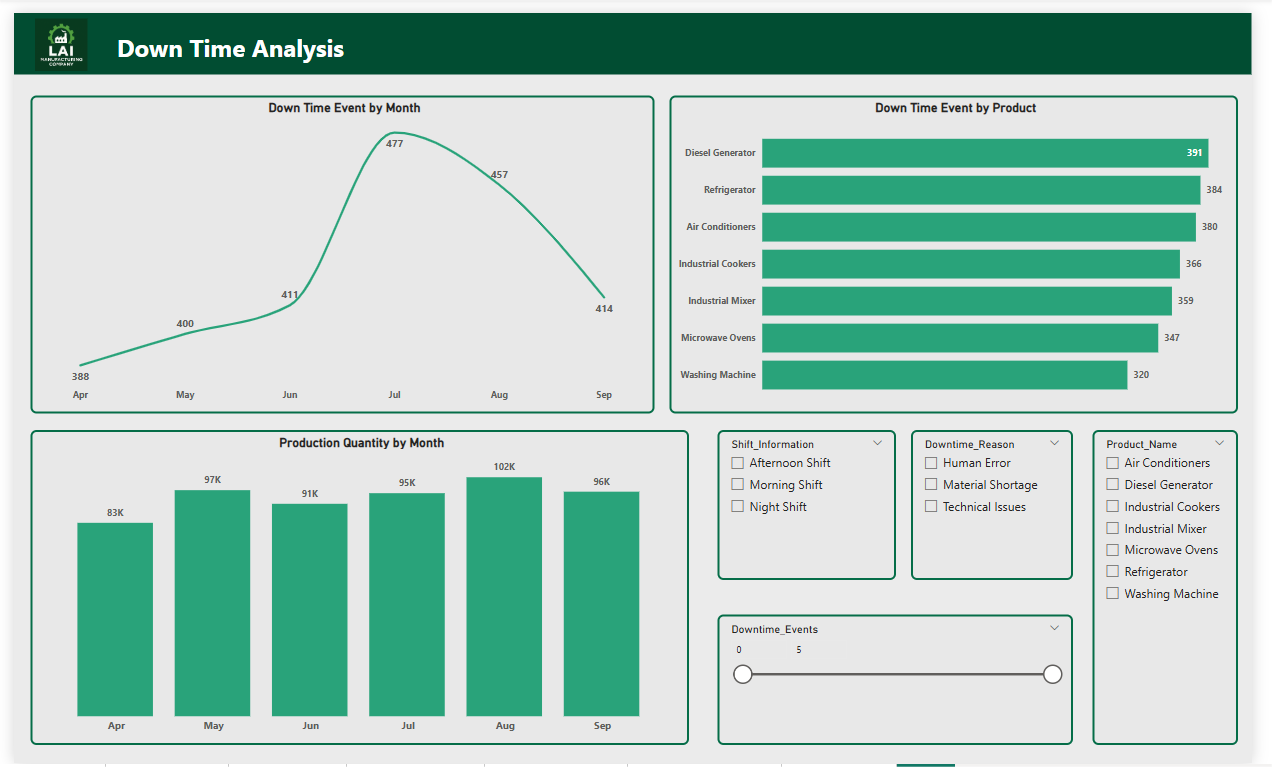

Layout of this report page (visuals, bound fields, positions):
{"tool":"powerbi","page":{"name":"Down Time","canvas":[1650,1000],"ordinal":5},"visuals":[{"type":"shape","box":[0,0,1650,82],"z":0},{"type":"textbox","box":[132,18,418,64],"z":1000},{"type":"lineChart","title":"Down Time Event by Month","fields":{"Category":["Date Table.Month Name"],"Y":["Sum(Operations_Data.Downtime_Events)"]},"box":[22,110,832,424],"z":2000},{"type":"barChart","title":"Down Time Event by Product","fields":{"Category":["Product_Data.Product_Name"],"Y":["Sum(Operations_Data.Downtime_Events)"]},"box":[874,110,758,424],"z":3000},{"type":"columnChart","title":" Production Quantity by Month ","fields":{"Y":["Sum(Operations_Data.Production_Quantity)"],"Category":["Date Table.Month Name"]},"box":[22,556,878,420],"z":4000},{"type":"slicer","fields":{"Values":["Product_Data.Product_Name"]},"box":[1438,556,194,420],"z":5000},{"type":"slicer","fields":{"Values":["Employee_Data.Shift_Information"]},"box":[938,556,238,200],"z":6000},{"type":"slicer","fields":{"Values":["Operations_Data.Downtime_Reason"]},"box":[1196,556,216,200],"z":7000},{"type":"slicer","fields":{"Values":["Operations_Data.Downtime_Events"]},"box":[938,802,474,174],"z":8000},{"type":"image","box":[0,2,126,80],"z":9000}]}

Visuals, with their boxes in screenshot pixels (x1, y1, x2, y2), scaled from the page's 1650x1000 canvas onto the 1272x767 screenshot:
shape: select_region(0, 0, 1271, 63)
textbox: select_region(102, 14, 424, 63)
"Down Time Event by Month" lineChart: select_region(17, 84, 658, 410)
"Down Time Event by Product" barChart: select_region(674, 84, 1258, 410)
" Production Quantity by Month " columnChart: select_region(17, 426, 694, 749)
slicer - Product_Data.Product_Name: select_region(1109, 426, 1258, 749)
slicer - Employee_Data.Shift_Information: select_region(723, 426, 907, 580)
slicer - Operations_Data.Downtime_Reason: select_region(922, 426, 1089, 580)
slicer - Operations_Data.Downtime_Events: select_region(723, 615, 1089, 749)
image: select_region(0, 2, 97, 63)
